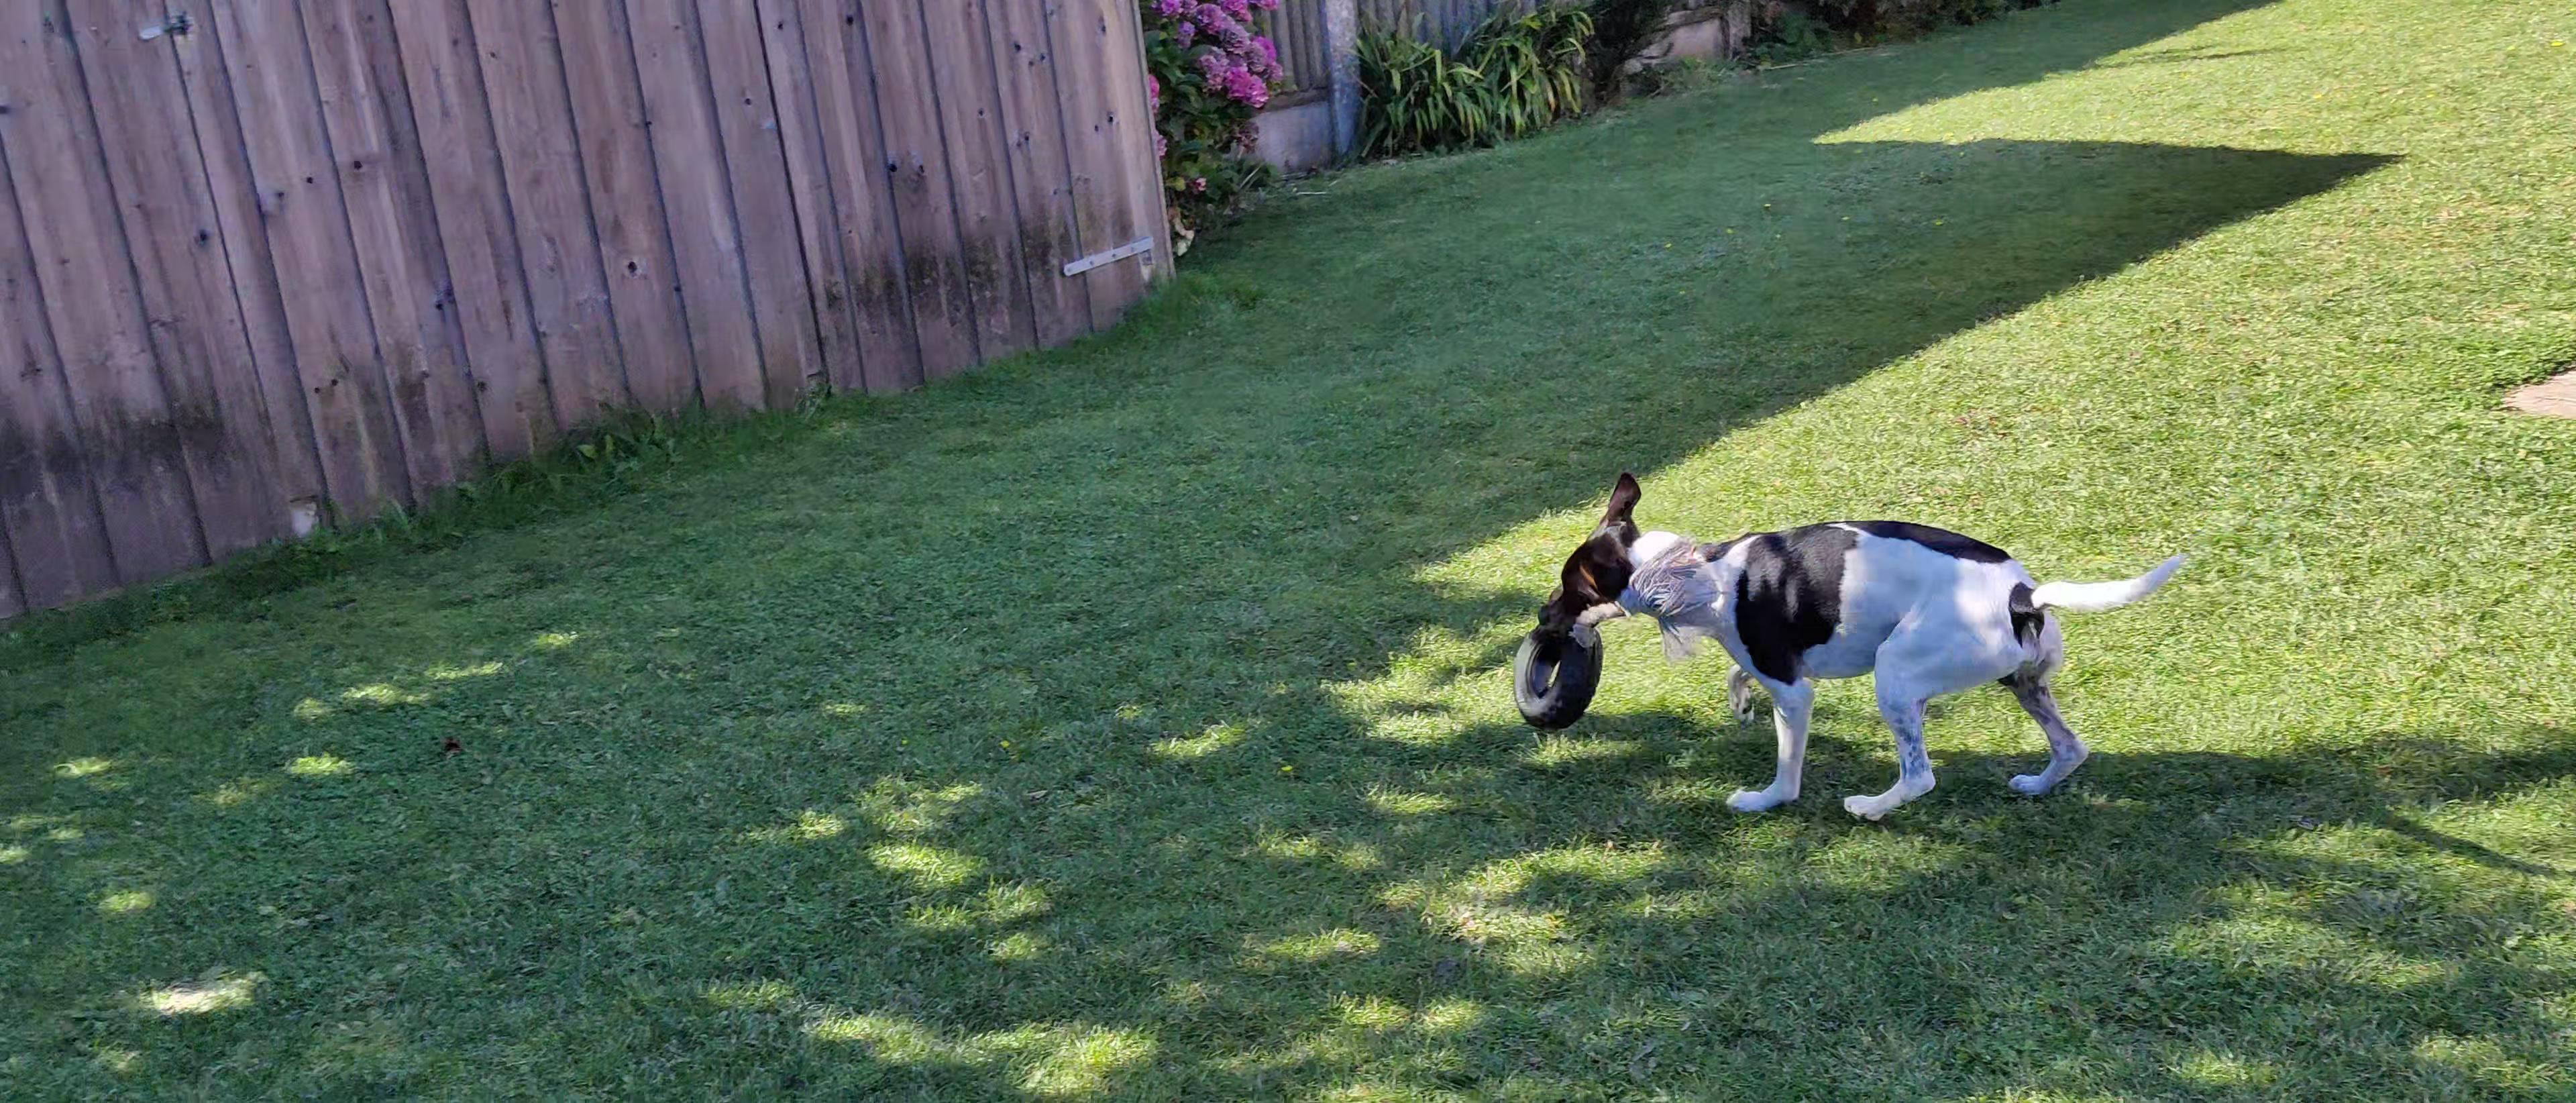Dog: (1533, 454, 2208, 838)
